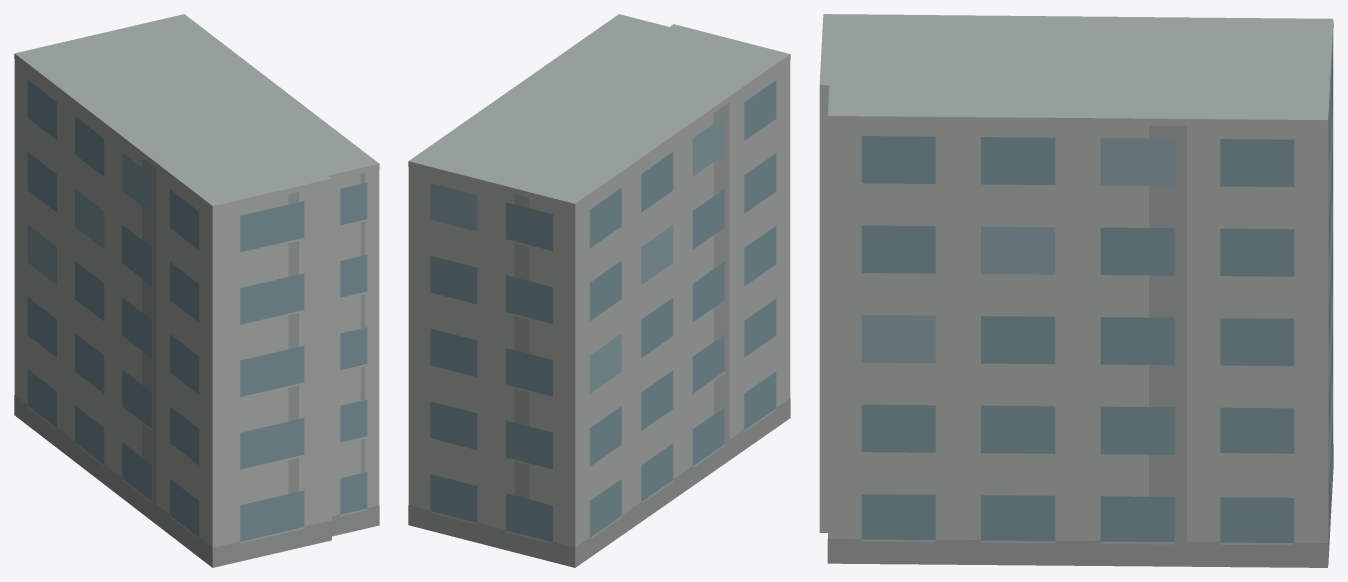
Rendered from survey-upis-32822164.glb.
3 views of the same model, side by side, from view 1: azimuth 30°, elevation 25°; view 2: azimuth 150°, elevation 25°; view 3: azimuth 270°, elevation 25° (orthographic). The views are drawn at different scales.
Visible parts, largest first — view 1: survey-upis-32822164.tmp; view 2: survey-upis-32822164.tmp; view 3: survey-upis-32822164.tmp.
Boxes of the visible parts, x1=… form: survey-upis-32822164.tmp: x1=14, y1=14, x2=379, y2=567; survey-upis-32822164.tmp: x1=408, y1=14, x2=790, y2=567; survey-upis-32822164.tmp: x1=819, y1=14, x2=1333, y2=567.
Size of the model in its own units: 7.96 by 15.64 by 16.28.
